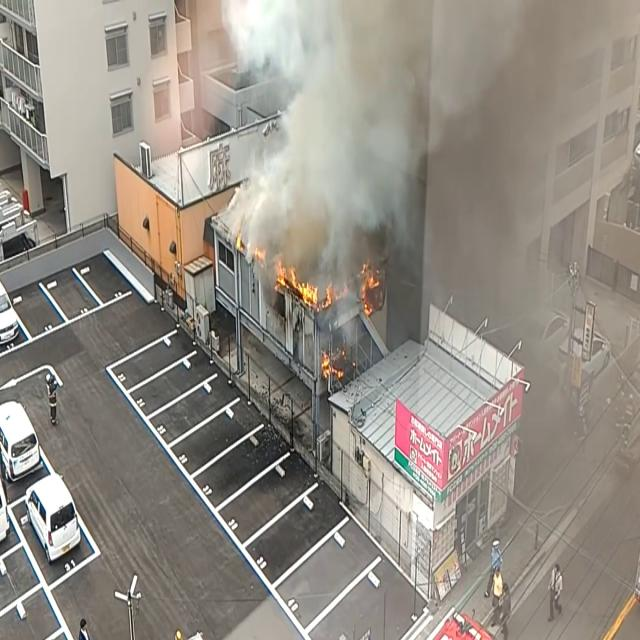Fire: (273, 257, 333, 310)
Smoke: (231, 0, 599, 326)
